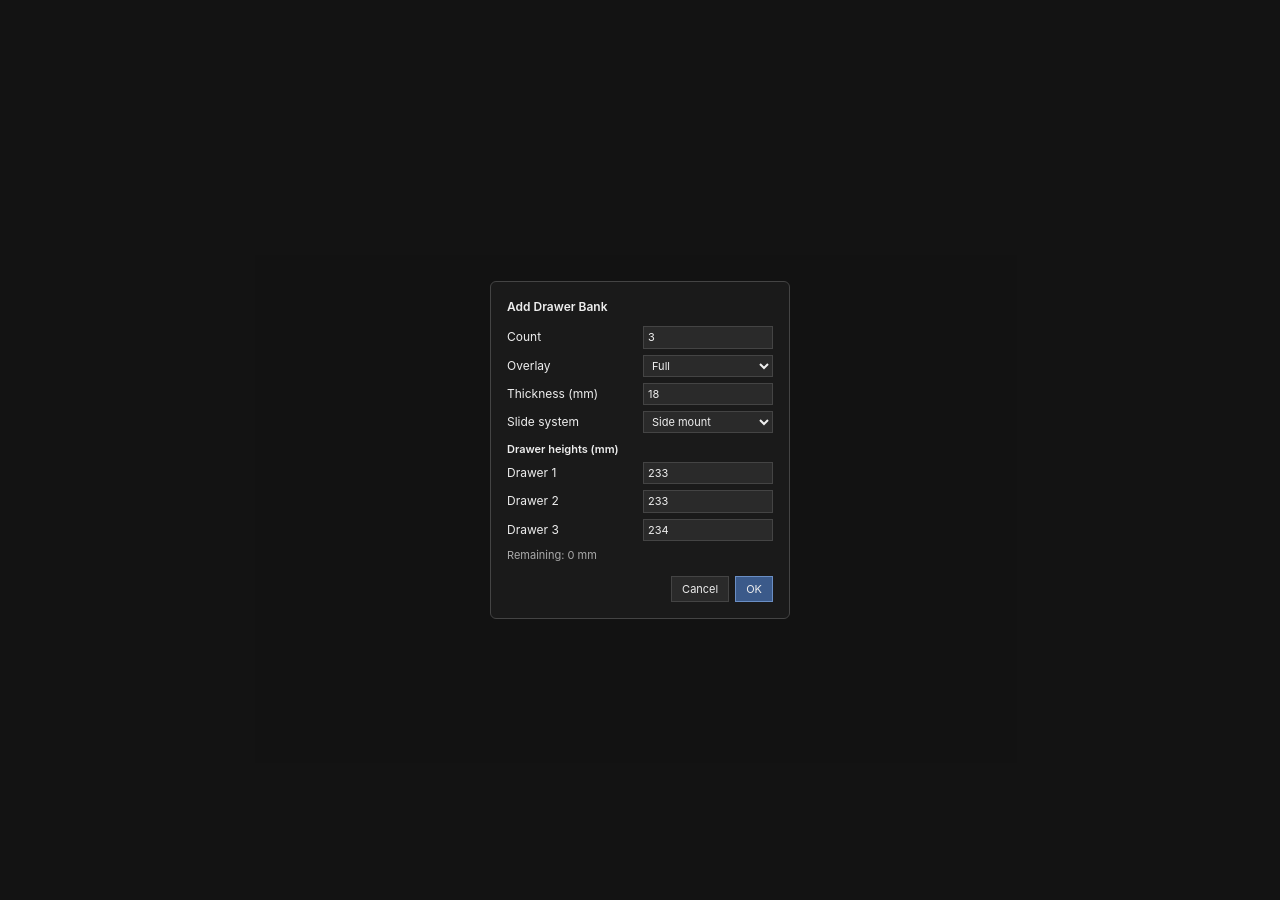
Test: DrawerBankDialog — tandem machining preset pickers (P9 W2c) › switching to tandem shows two preset dropdowns, filtered by opType (cabinet: tandem-cabinet; drawer: tandem-drawer-bottom OR tandem-drawer-back), defaulting to
The width and height of the screenshot is (1280, 900).
Select "Tandem (under-mount)" in the dropdown labelled "Slide system" at (708, 422), box [643,411,773,433]
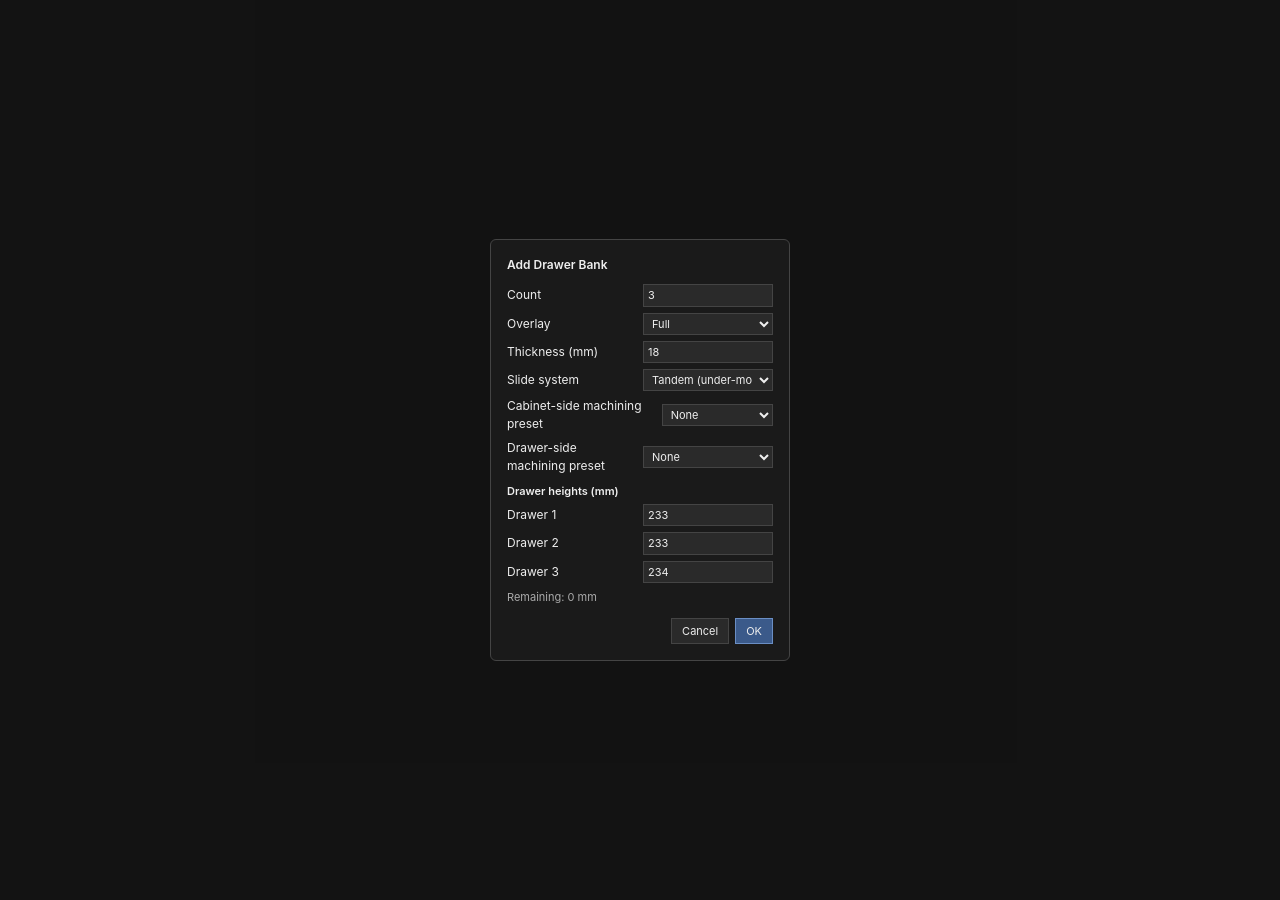
Check: the dropdown labelled "Cabinet-side machining preset" shows "None", box [662,404,773,426]
Check: the dropdown labelled "Drawer-side machining preset" shows "None", box [643,446,773,468]
